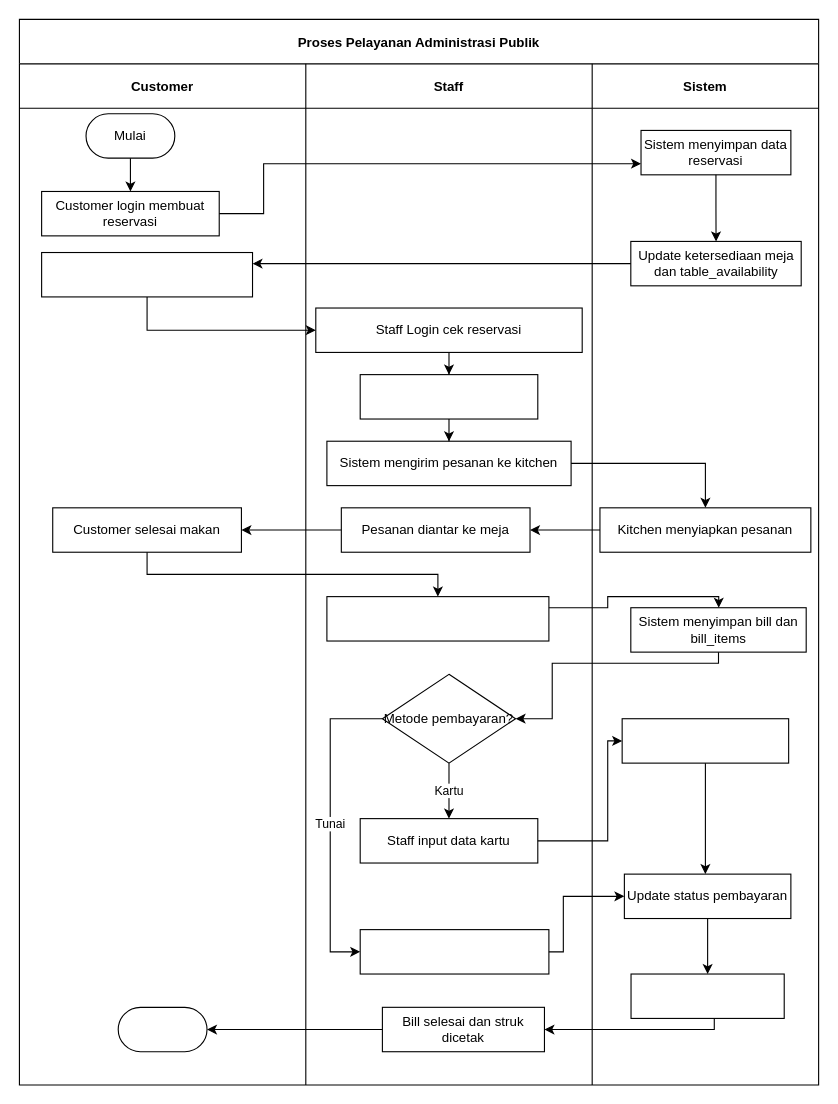
The diagram is 838 pixels wide and 1104 high, and some of its shapes have lost their labels. Each missing label, with the centre of its shape:
Customer datang ke restoran: the point at 147,274
Selesai: the point at 162,1029
Sistem menyimpan data card_payments: the point at 705,740
Staff membuat bill dan memilih menu yang dipesan: the point at 437,618
Staff mencatat pesanan: the point at 448,396
Staff menerima uang tunai: the point at 454,951
Update poin membership (jika member): the point at 707,995
